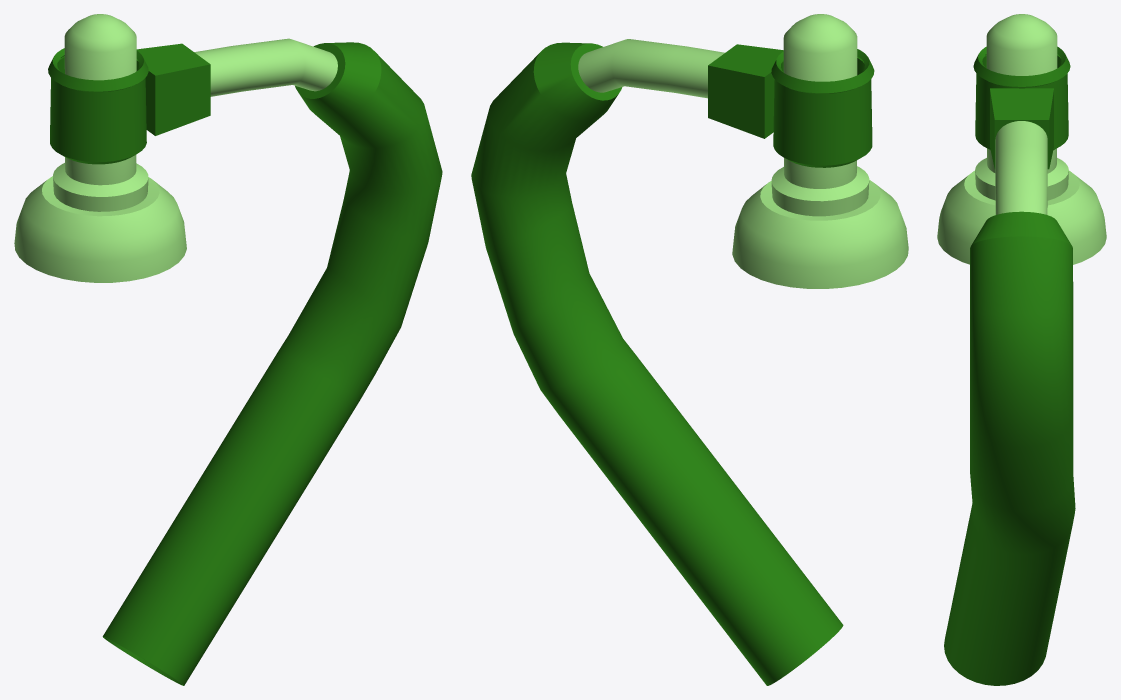
File: coffee_stuck_cup2.fbx
The picture shows the model from 3 angles, left to right: view 1: azimuth 30°, elevation 25°; view 2: azimuth 150°, elevation 25°; view 3: azimuth 270°, elevation 25°; orthographic projection. The views are drawn at different scales.
Visible parts, largest first — view 1: closing _mechanism, close_m 2; view 2: closing _mechanism, close_m 2; view 3: closing _mechanism, close_m 2.
Part boxes in pixels (x1,y1,x2,y2): closing _mechanism: (48, 38, 442, 685); close_m 2: (14, 14, 186, 282); closing _mechanism: (471, 39, 874, 685); close_m 2: (732, 14, 908, 288); closing _mechanism: (944, 46, 1075, 685); close_m 2: (937, 14, 1106, 264).
Bounding box in the file's own units: 323 × 506 × 121.
